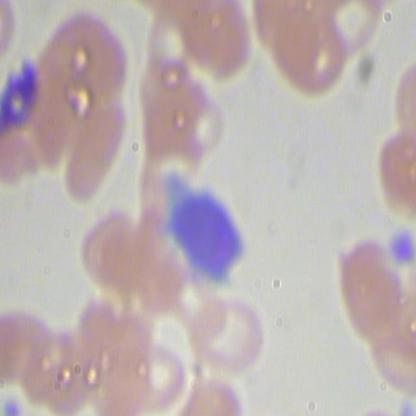Platelets: (387, 225, 416, 266), (3, 394, 25, 416)
WBC: (162, 170, 263, 292)
